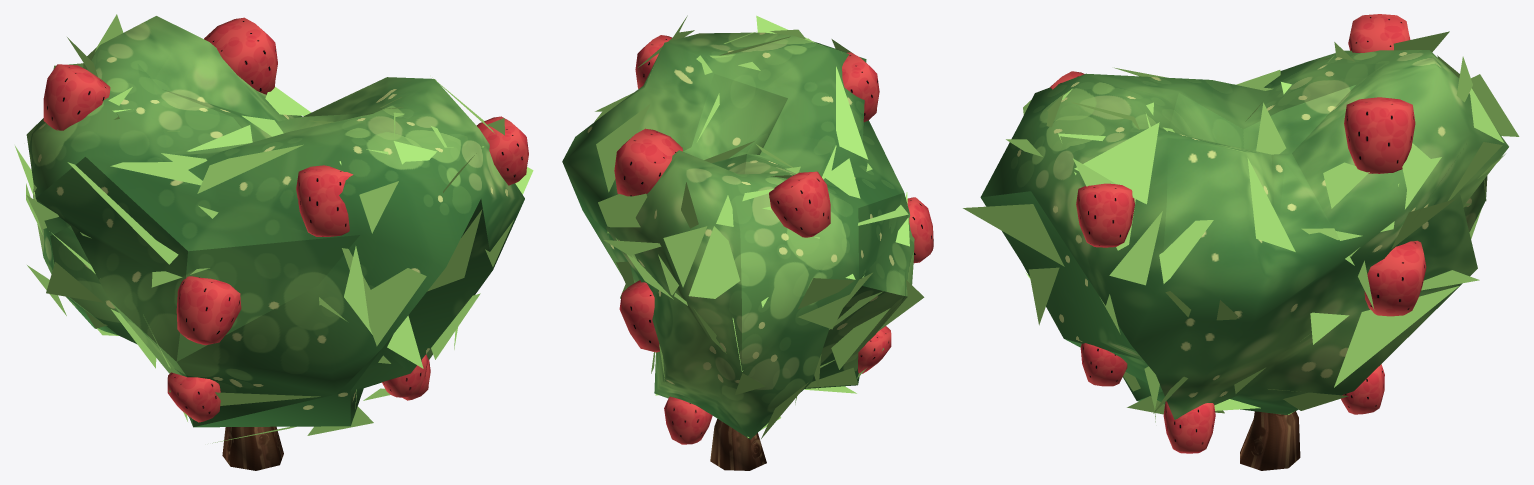
Rendered from strawberry.fbx.
3 renders of one model, left to right at view 1: azimuth 30°, elevation 25°; view 2: azimuth 150°, elevation 25°; view 3: azimuth 270°, elevation 25°, orthographic. The views are drawn at different scales.
Parts seen in each view (by area): view 1: bush, bush details, strawberries, Object; view 2: bush, bush details, strawberries, Object; view 3: bush, bush details, strawberries, Object.
Part boxes in pixels (<box>): bush: <box>26,16,524,427</box>; bush details: <box>15,14,533,443</box>; strawberries: <box>43,17,528,422</box>; Object: <box>222,426,283,470</box>; bush: <box>562,32,914,439</box>; bush details: <box>594,15,924,438</box>; strawberries: <box>614,35,933,444</box>; Object: <box>710,419,766,470</box>; bush: <box>980,50,1508,419</box>; bush details: <box>963,31,1519,422</box>; strawberries: <box>1050,14,1426,453</box>; Object: <box>1240,411,1300,470</box>.
Bounding box in the file's own units: 53.03 × 49.24 × 63.05.
